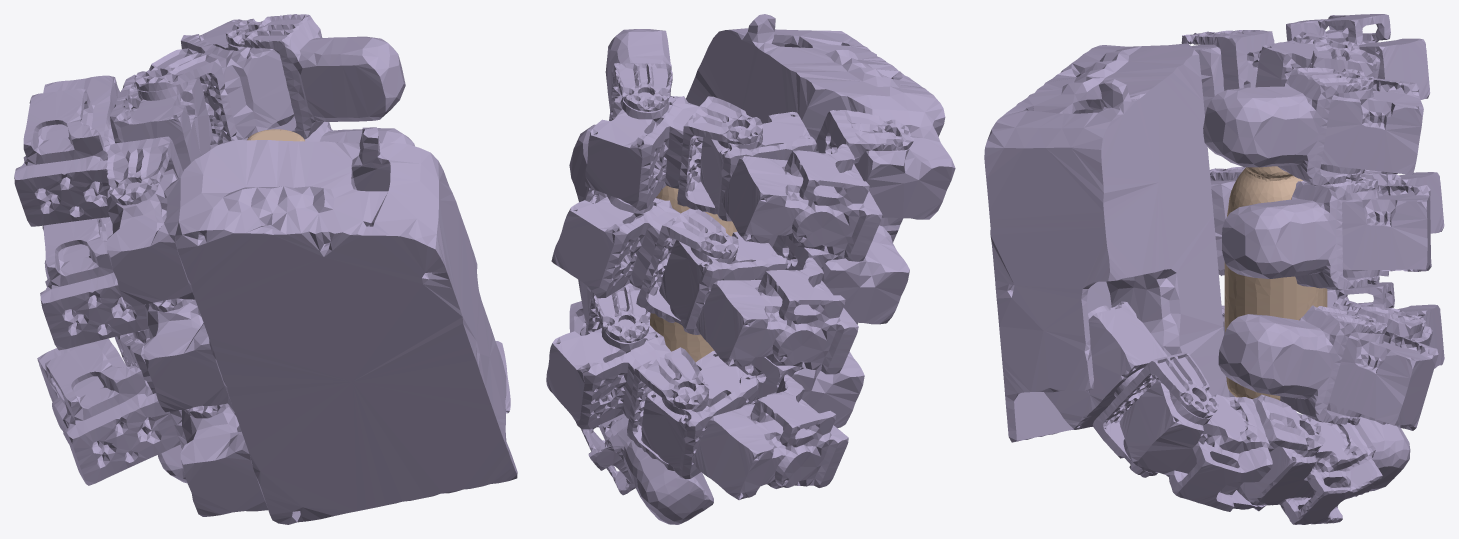
The model's file is case-02.glb.
3 renders of one model, left to right at view 1: azimuth 30°, elevation 25°; view 2: azimuth 150°, elevation 25°; view 3: azimuth 270°, elevation 25°, orthographic. The views are drawn at different scales.
Parts seen in each view (by area): view 1: world; view 2: world, simplified.obj; view 3: world, simplified.obj.
Boxes of the visible parts, x1=… form: world: x1=14, y1=14, x2=517, y2=524; world: x1=546, y1=14, x2=955, y2=524; simplified.obj: x1=650, y1=185, x2=737, y2=362; world: x1=984, y1=14, x2=1444, y2=524; simplified.obj: x1=1224, y1=166, x2=1327, y2=400.
Size of the model in its own units: 0.1477 by 0.1615 by 0.1522.
